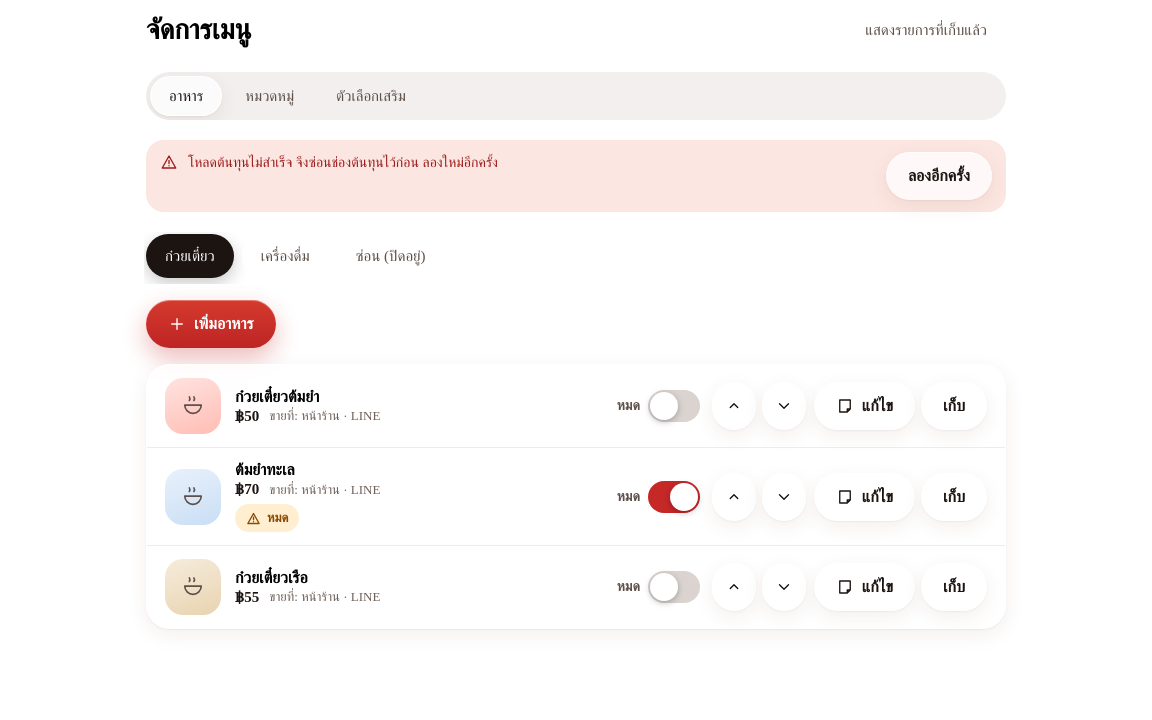
Scenario: the lists › says so when the costs could not be read for a reason other than 403, and retries
The image size is (1152, 720).
Check: the text "โหลดต้นทุนไม่สำเร็จ จึงซ่อนช่องต้นทุนไว้ก่อน ลองใหม่อีกครั้ง" is shown, box [188,155,498,170]
Step 1. Click the button "ลองอีกครั้ง" → [939, 176], box [886,152,992,200]
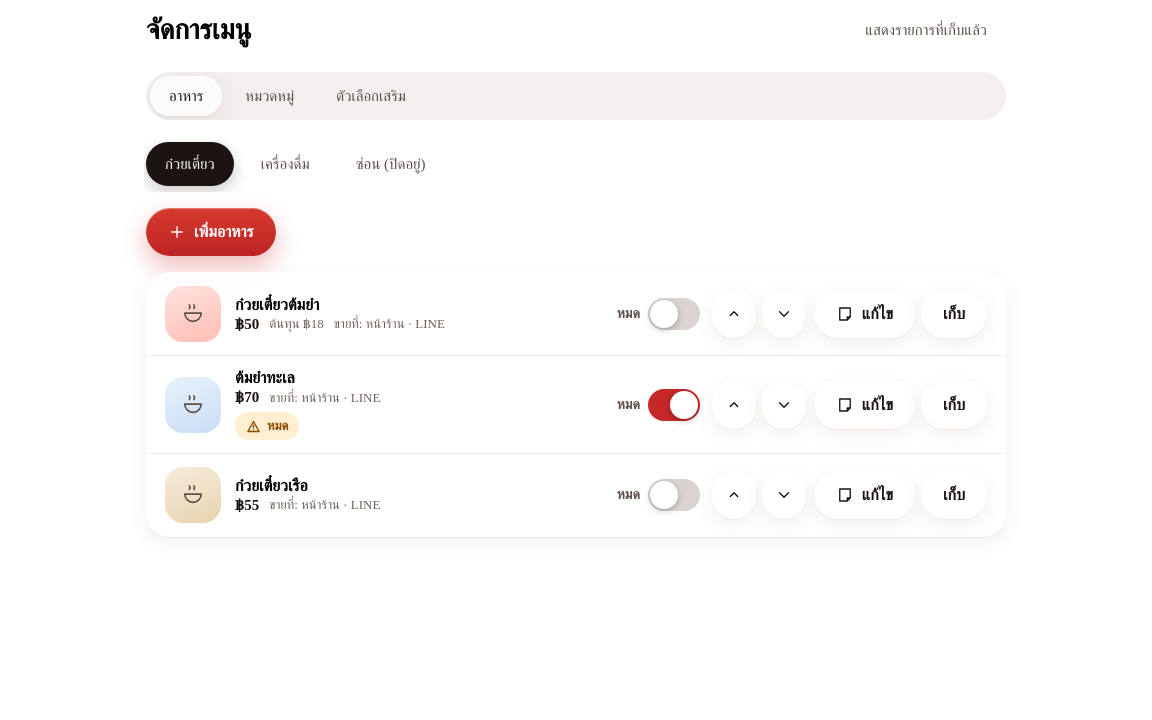
Check: the text "โหลดต้นทุนไม่สำเร็จ จึงซ่อนช่องต้นทุนไว้ก่อน ลองใหม่อีกครั้ง" is gone
